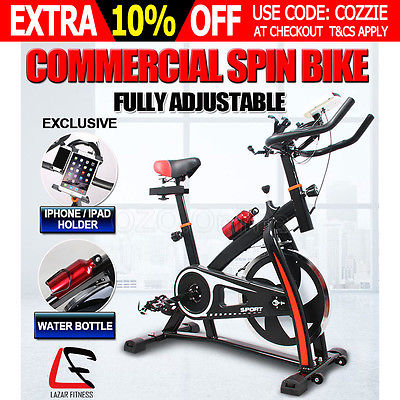gym_bike: (134, 99, 375, 397)
